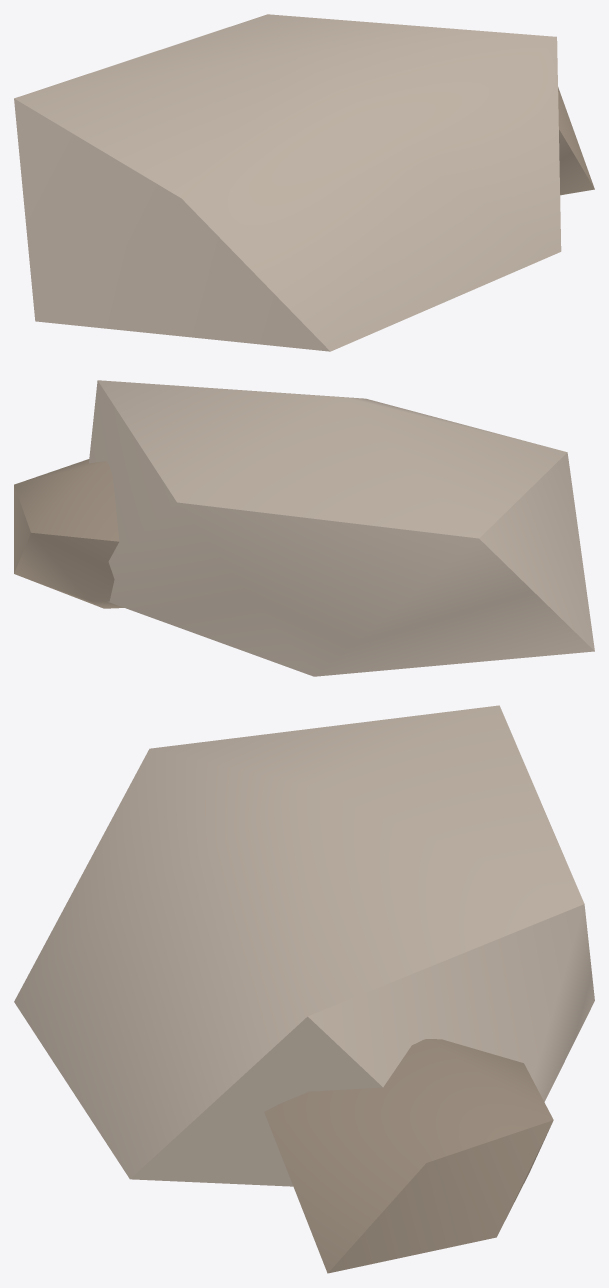
The model's file is rock.glb.
The picture shows the model from 3 angles, top to bottom: view 1: azimuth 30°, elevation 25°; view 2: azimuth 150°, elevation 25°; view 3: azimuth 270°, elevation 25°; orthographic projection. The views are drawn at different scales.
Parts seen in each view (by area): view 1: rock; view 2: rock; view 3: rock.
Part boxes in pixels (x1=…): rock: x1=14, y1=14, x2=594, y2=351; rock: x1=14, y1=380, x2=594, y2=676; rock: x1=14, y1=705, x2=594, y2=1273.
Size of the model in its own units: 2.59 by 1.22 by 1.71.
1 material, 1 textured.
